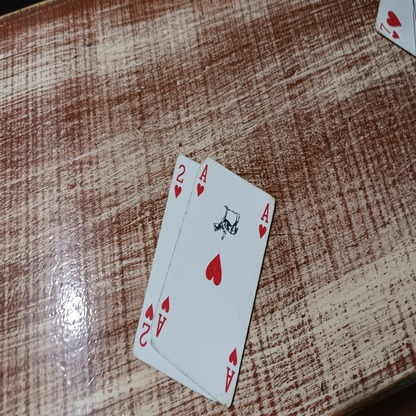2h: (138, 303, 153, 347), (174, 161, 185, 198)
7h: (378, 18, 398, 43)
Ah: (222, 345, 235, 395), (255, 199, 271, 238), (154, 295, 169, 336), (197, 163, 210, 198)
